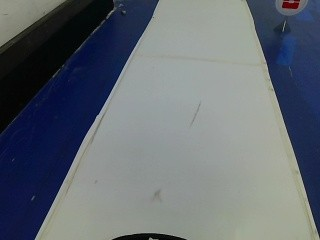company: (274, 0, 307, 17)
